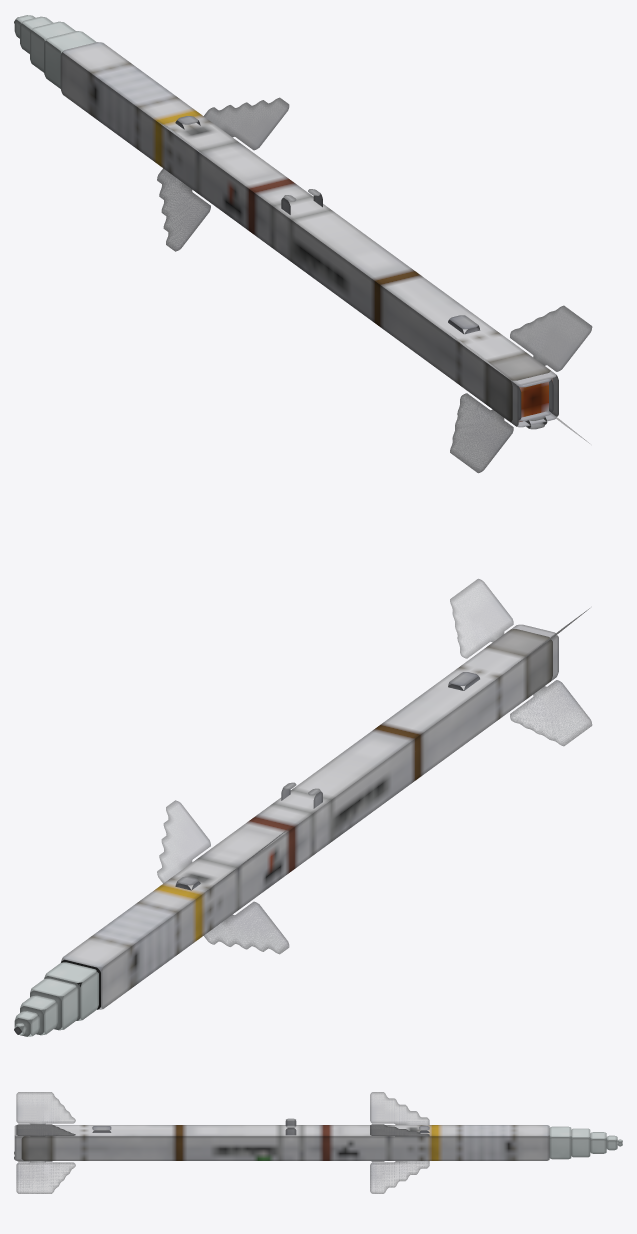
Rendered from aim120c.obj.
The picture shows the model from 3 angles, top to bottom: view 1: azimuth 30°, elevation 25°; view 2: azimuth 150°, elevation 25°; view 3: azimuth 270°, elevation 25°; orthographic projection. The views are drawn at different scales.
Parts seen in each view (by area): view 1: main, rear1, front2, base, nozzle1, mid3; view 2: main, rear1, front2, base, mid3, mid2; view 3: main, rear2, front1, base, rear1, mid3, front2, mid2, nozzle1.
Boxes of the visible parts, <box> form: main: <box>60,42,552,422</box>; rear1: <box>450,305,592,473</box>; front2: <box>157,97,289,251</box>; base: <box>44,31,96,88</box>; nozzle1: <box>510,370,558,427</box>; mid3: <box>30,21,75,72</box>; main: <box>61,629,552,1009</box>; rear1: <box>450,578,592,746</box>; front2: <box>157,800,289,954</box>; base: <box>44,962,98,1020</box>; mid3: <box>30,978,78,1030</box>; mid2: <box>20,995,57,1035</box>; main: <box>21,1125,549,1160</box>; rear2: <box>16,1092,75,1193</box>; front1: <box>370,1092,429,1193</box>; base: <box>549,1126,571,1159</box>; rear1: <box>16,1124,75,1161</box>; mid3: <box>571,1128,590,1157</box>; front2: <box>370,1124,429,1161</box>; mid2: <box>590,1132,606,1153</box>; nozzle1: <box>14,1125,23,1160</box>.
Bounding box in the file's own units: 0.6629 × 0.6629 × 3.5.
